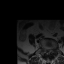CCS_normal: (47, 48, 49, 56)
LFS_normal: (51, 46, 53, 52)
LLS_normal: (49, 48, 51, 54)
RFS_normal: (43, 46, 46, 53)
RLS_normal: (46, 48, 47, 55)
